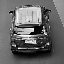mobil: (7, 4, 54, 54)
